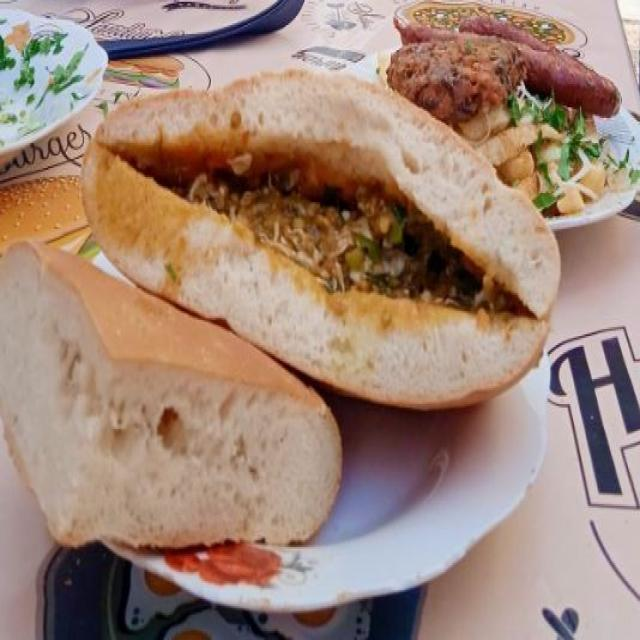Sandwitch tounsi: (91, 76, 548, 312)
